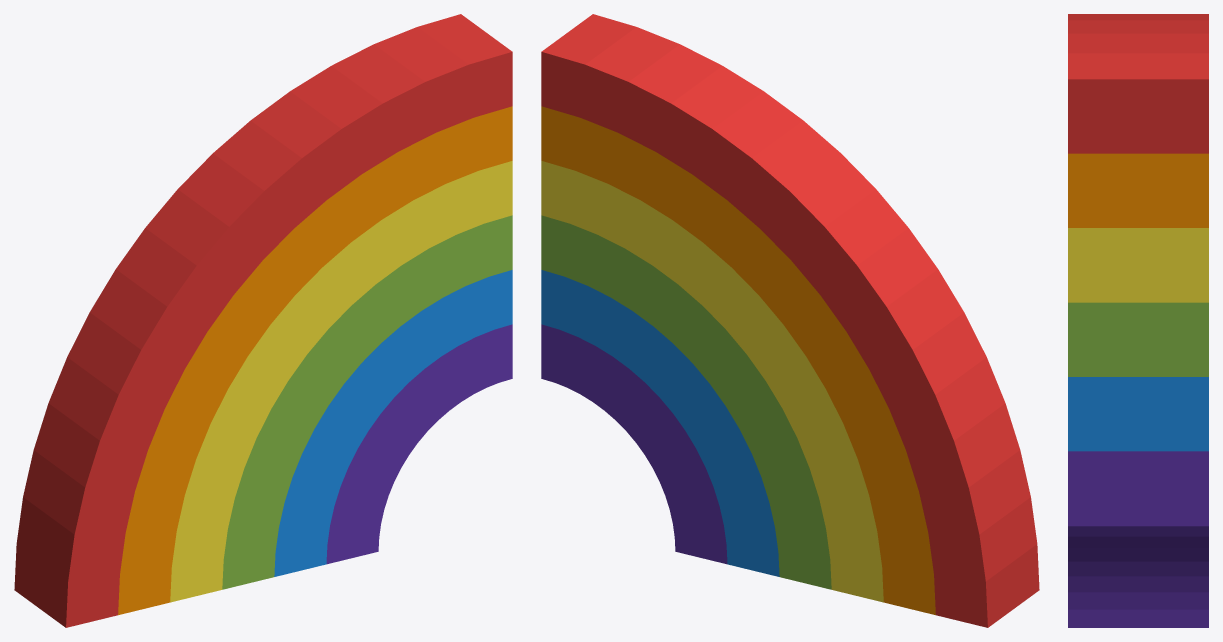
File: rainbow.glb
3 views of the same model, side by side, from view 1: azimuth 30°, elevation 25°; view 2: azimuth 150°, elevation 25°; view 3: azimuth 270°, elevation 25° (orthographic). The views are drawn at different scales.
Parts seen in each view (by area): view 1: Circle.2125; view 2: Circle.2125; view 3: Circle.2125.
Part boxes in pixels (<box>): Circle.2125: <box>14,14,512,627</box>; Circle.2125: <box>541,14,1039,627</box>; Circle.2125: <box>1068,14,1208,627</box>.
Bounding box in the file's own units: 2.24 × 2.24 × 0.448.
1 material, 1 textured.
